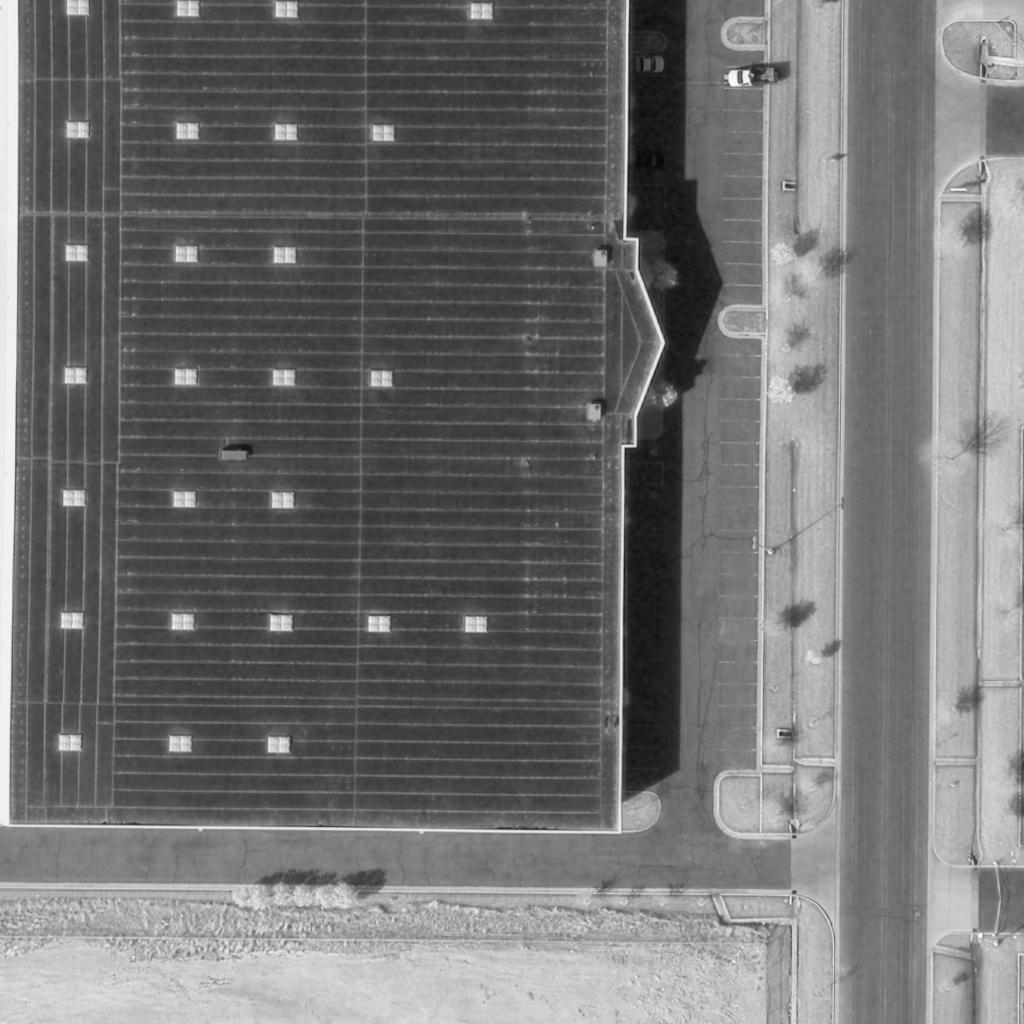vehicle: (727, 67, 779, 89), (612, 56, 666, 74), (618, 153, 668, 169)
